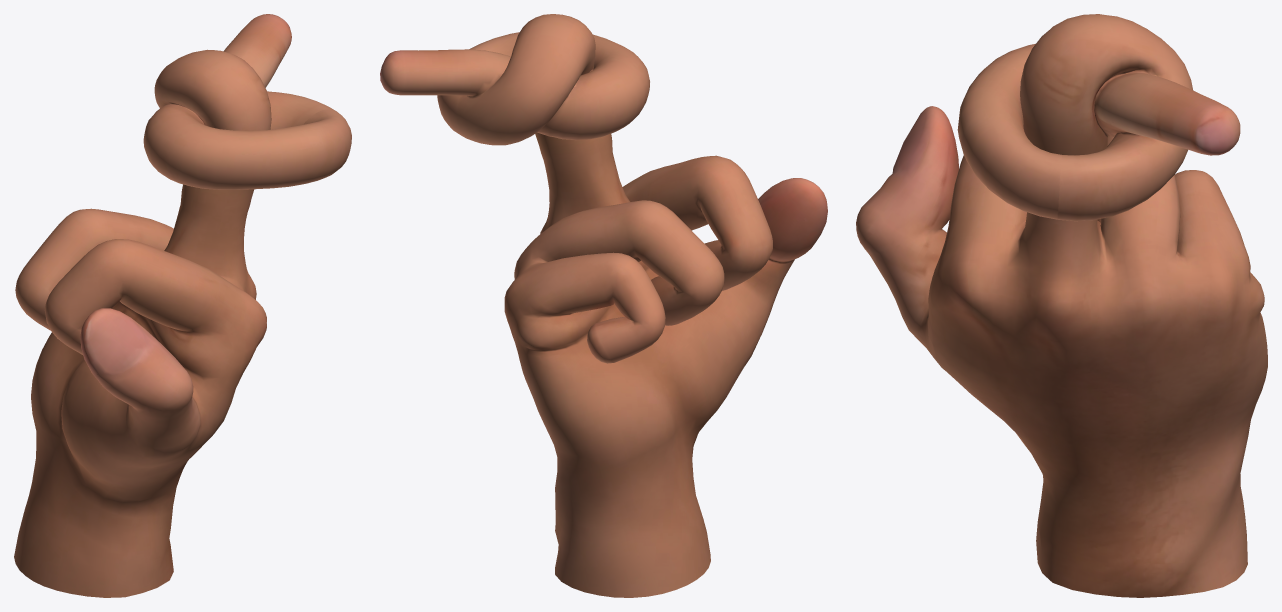
Rendered from fck-hand.glb.
3 renders of one model, left to right at view 1: azimuth 30°, elevation 25°; view 2: azimuth 150°, elevation 25°; view 3: azimuth 270°, elevation 25°, orthographic. The views are drawn at different scales.
Parts seen in each view (by area): view 1: fck-hand; view 2: fck-hand; view 3: fck-hand.
Part boxes in pixels (x1,y1,x2,y2): fck-hand: (14,14,351,597); fck-hand: (380,14,827,597); fck-hand: (856,14,1267,597).
Bounding box in the file's own units: 0.6772 × 0.9995 × 0.6211.
1 material, 1 textured.
